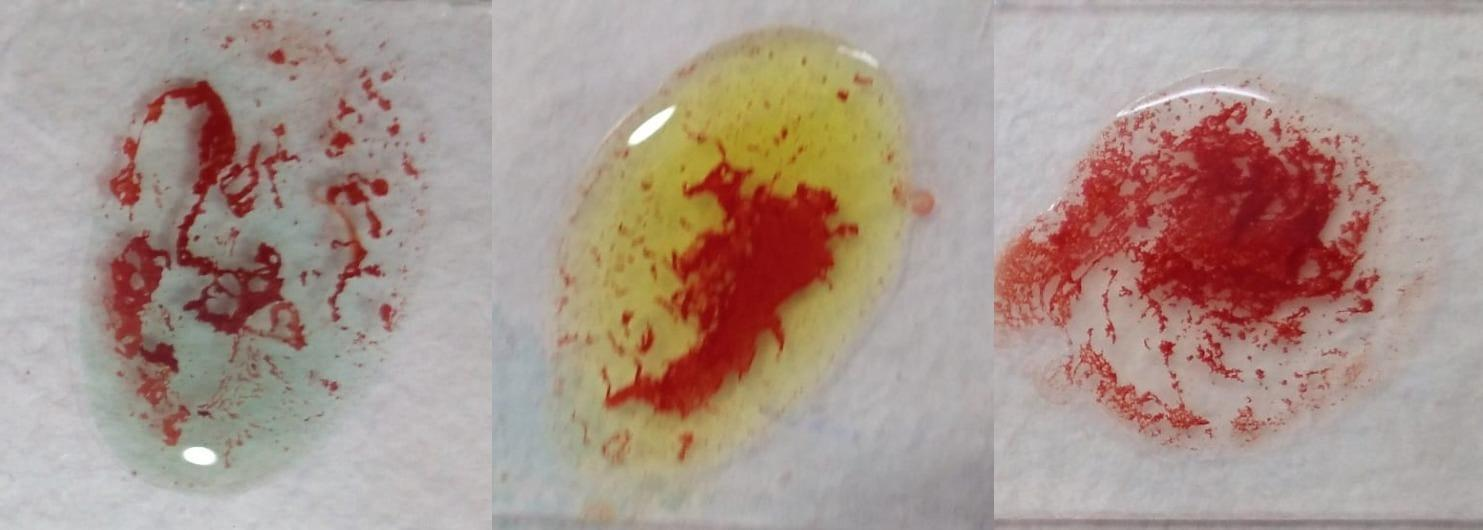A: (99, 10, 406, 484)
B: (561, 24, 900, 436)
D: (1021, 66, 1376, 464)
